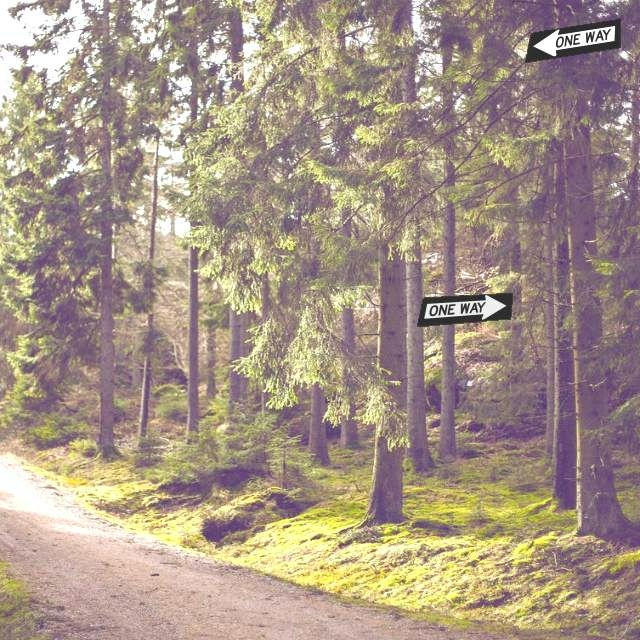ONE_WAY_ left: (524, 18, 621, 63)
ONE_WAY_ right: (416, 292, 513, 327)
